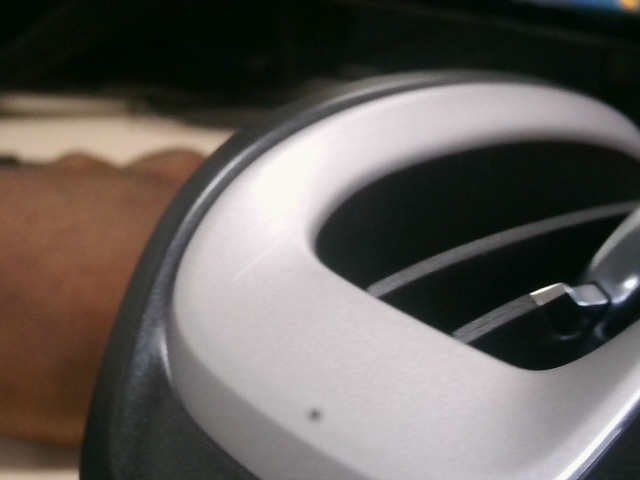NG: (234, 242, 271, 284)
